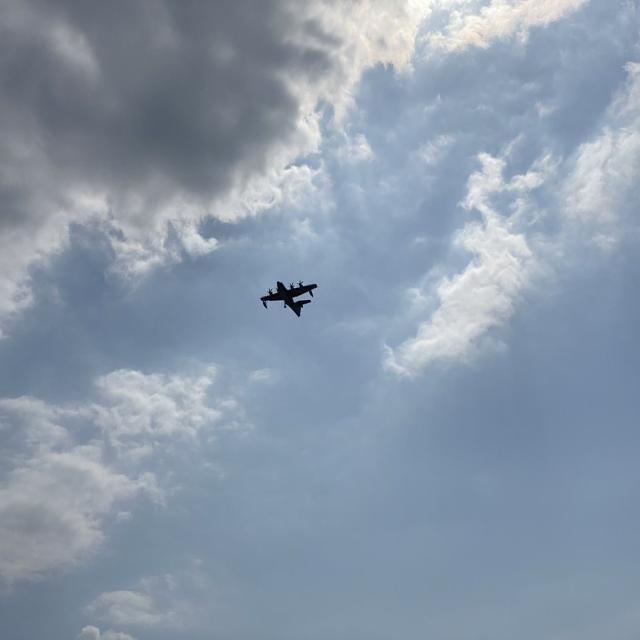MIL_Plane: (260, 279, 318, 318)
